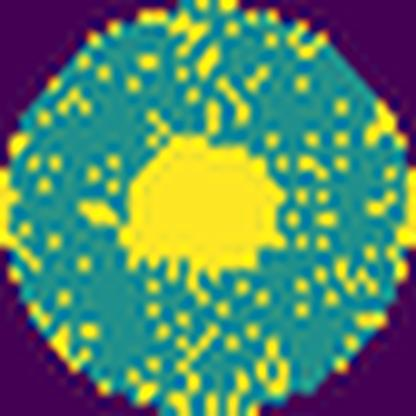Center: (119, 138, 289, 304)
